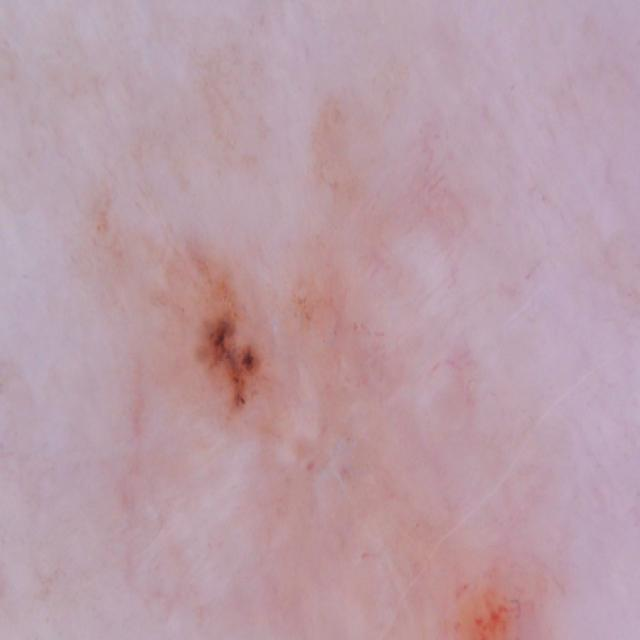Carcinoma: (150, 180, 291, 443), (424, 552, 584, 640)
